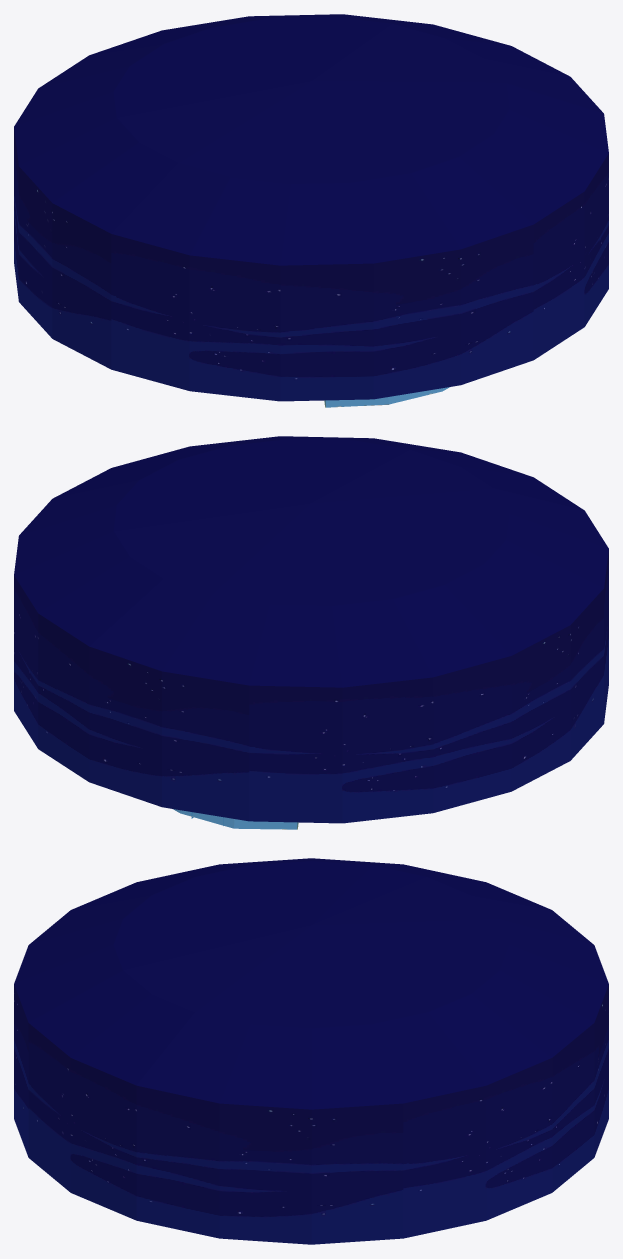
Rendered from Stadium.glb.
The picture shows the model from 3 angles, top to bottom: view 1: azimuth 30°, elevation 25°; view 2: azimuth 150°, elevation 25°; view 3: azimuth 270°, elevation 25°; orthographic projection.
Visible parts, largest first — view 1: Stadium_Sky, Stadium; view 2: Stadium_Sky, Stadium; view 3: Stadium_Sky.
Boxes of the visible parts, box(x1,y1,x2,y2) form: Stadium_Sky: box(14, 14, 608, 401); Stadium: box(324, 387, 449, 407); Stadium_Sky: box(14, 436, 608, 823); Stadium: box(173, 809, 298, 829); Stadium_Sky: box(14, 858, 608, 1244).
Bounding box in the file's own units: 104 × 47.28 × 104.
Materials: 3 (3 with a texture image).
